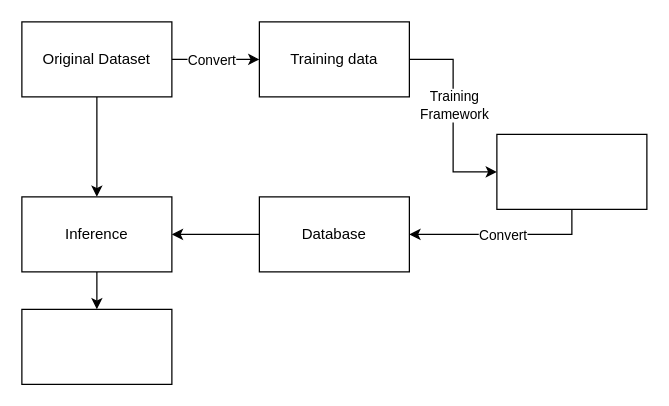
This 669x406 diagram has some shape labels left out. The shapes that lost their labels are listed below. From the top down, each one's centre as x and y in pixels, then its label:
At (571,171): "Trained Model".
At (96,346): "Output".
